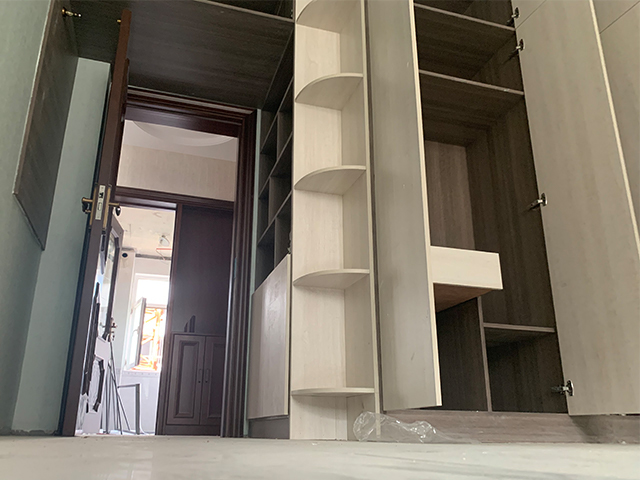cabinet: (244, 90, 567, 441)
